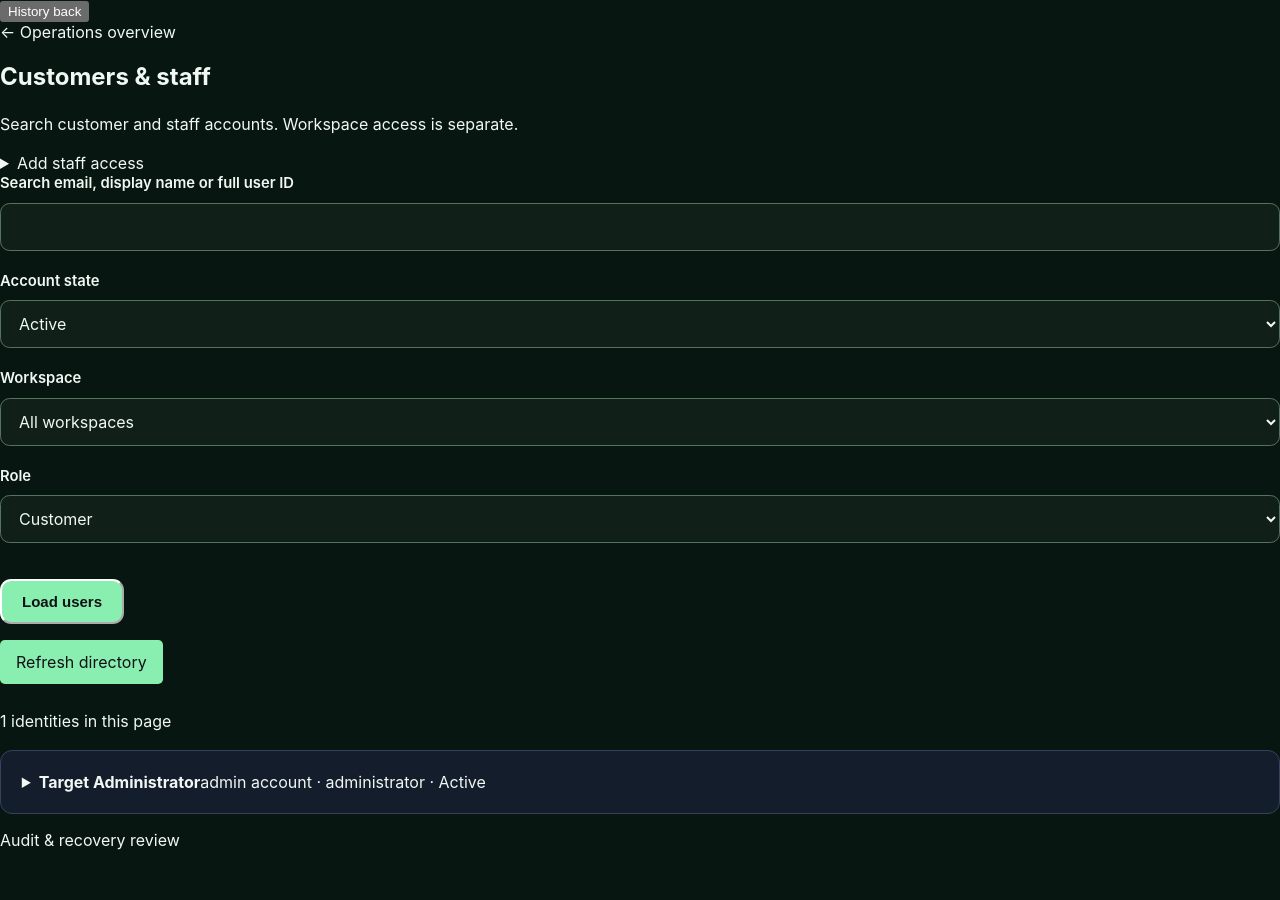
it: returns completed directory action focus to the heading when the refreshed identity is absent
The image size is (1280, 900).
Click the heading "Target Administrator" at (262,782), box [39,772,486,792]
(page scrolled)
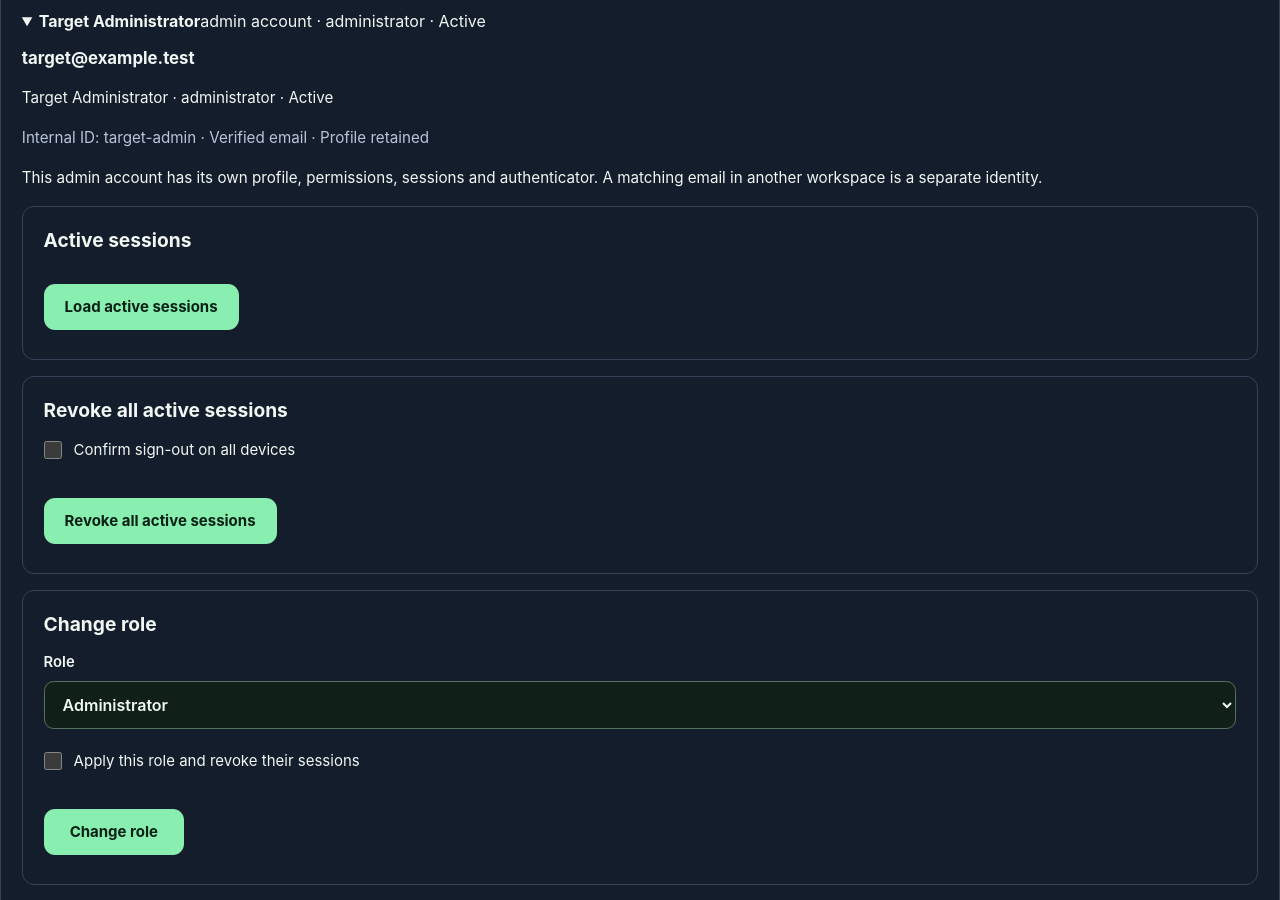
Click the checkbox labelled "Confirm sign-out on all devices" at (53,450), box [44,441,62,459]
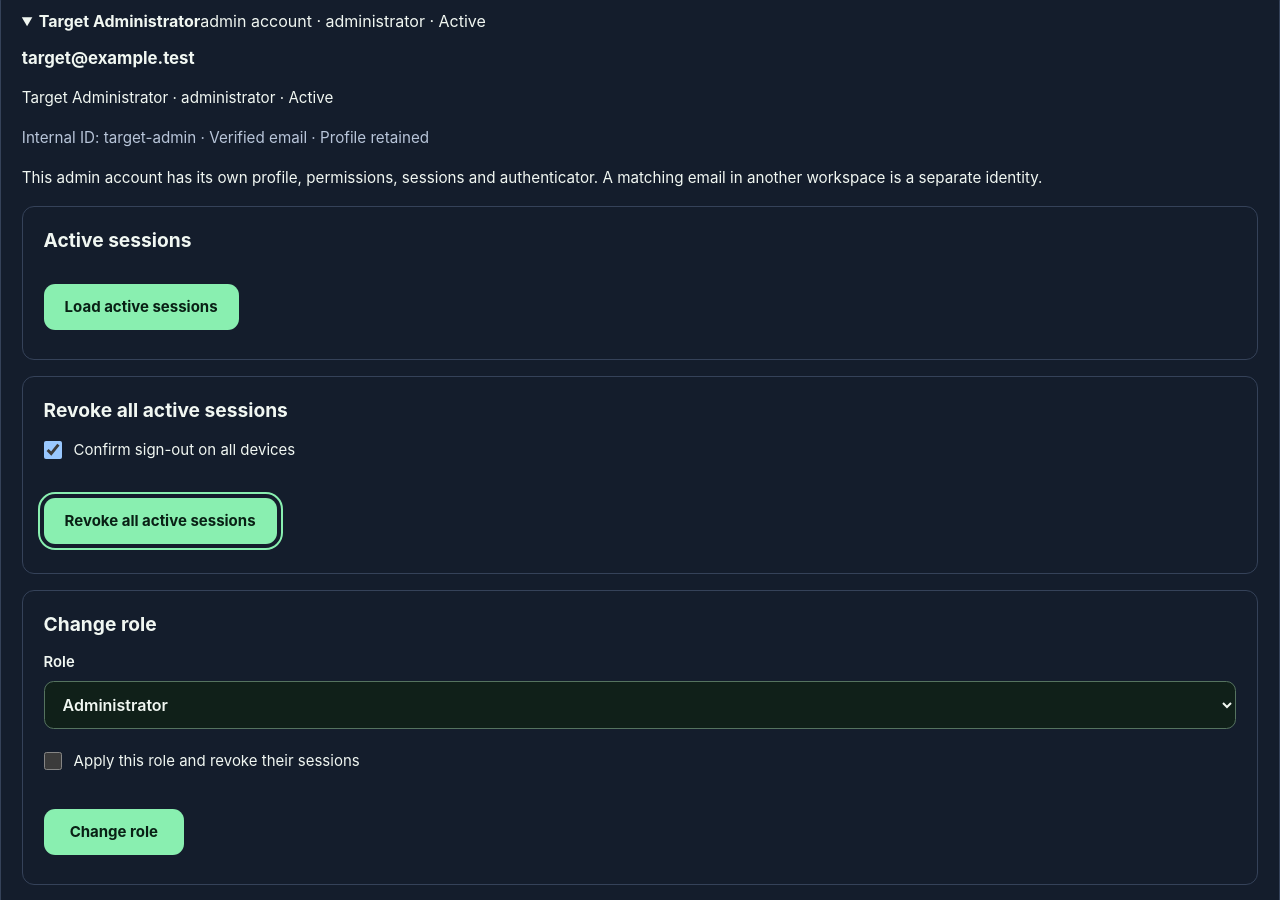
Submit the form "Revoke all active sessions", box [22,376,1258,574]
(page scrolled)
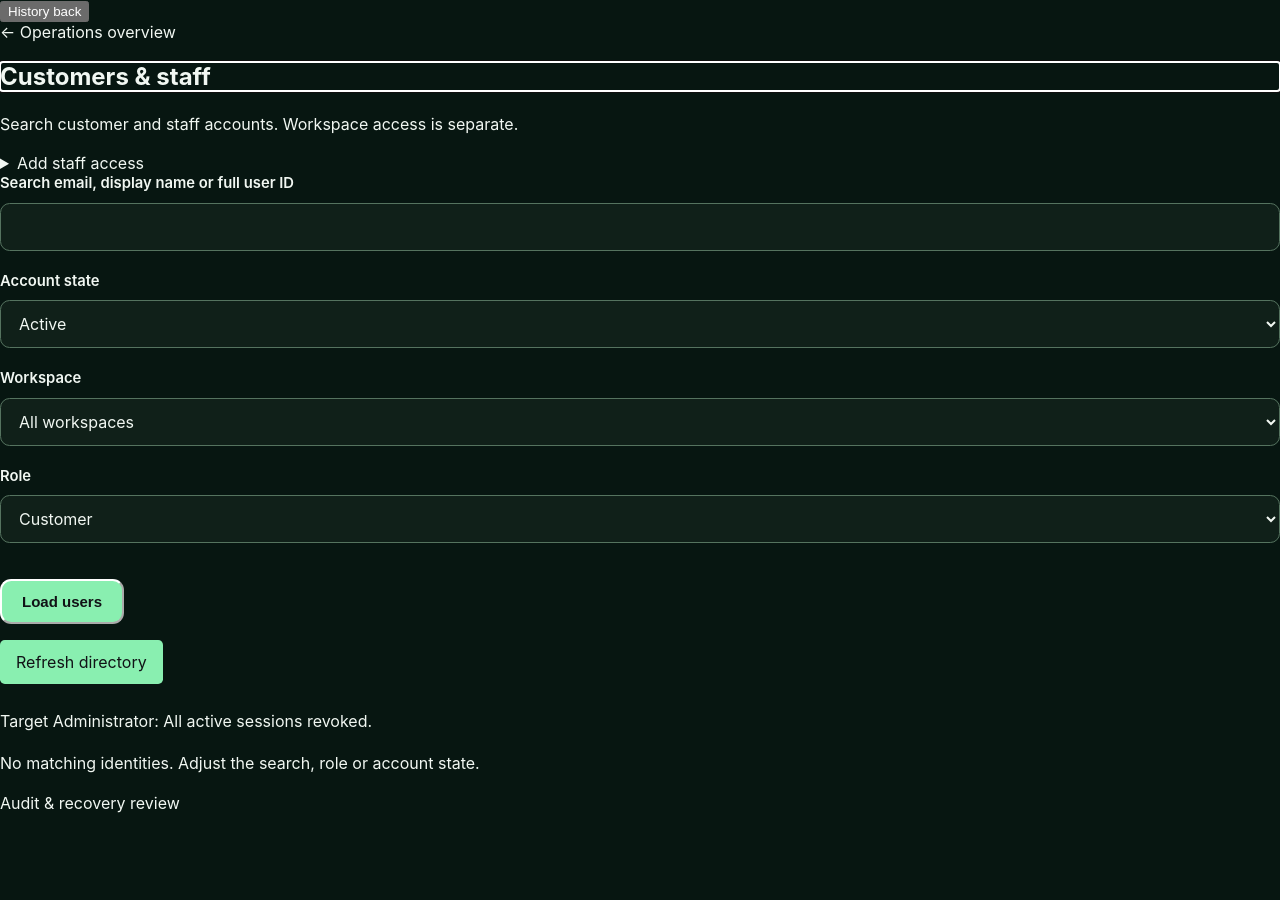
Expected: the text "Target Administrator: All active sessions revoked." is shown, [0,711,372,731]
